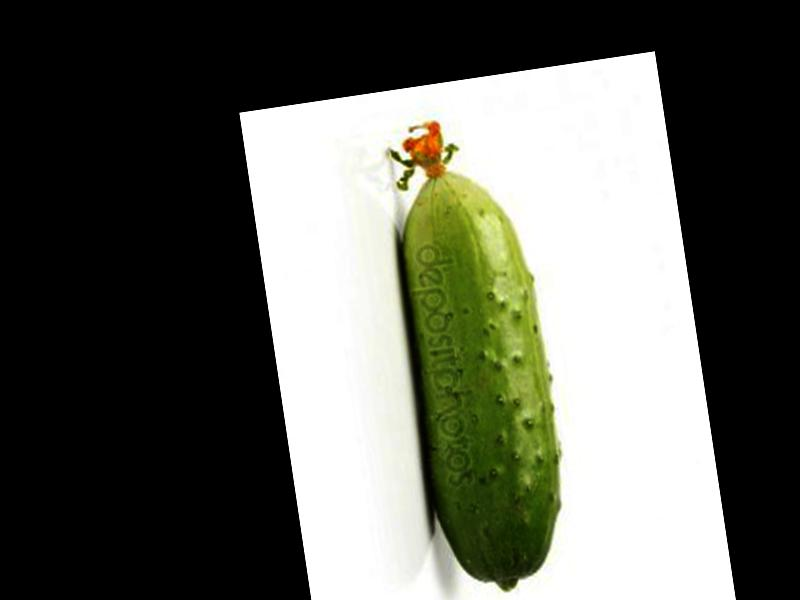Cucumber: (374, 112, 579, 600)
